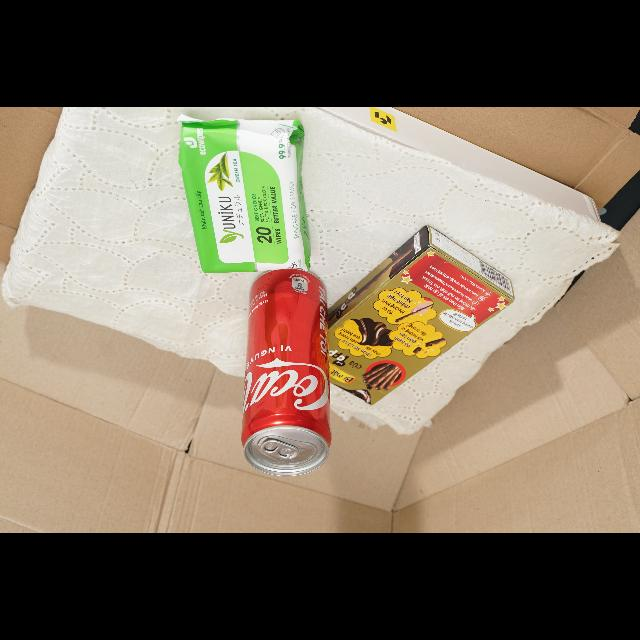banh_toppo_socola: (329, 226, 515, 404)
coca_cola: (241, 269, 331, 476)
khan_giay: (178, 115, 310, 273)
